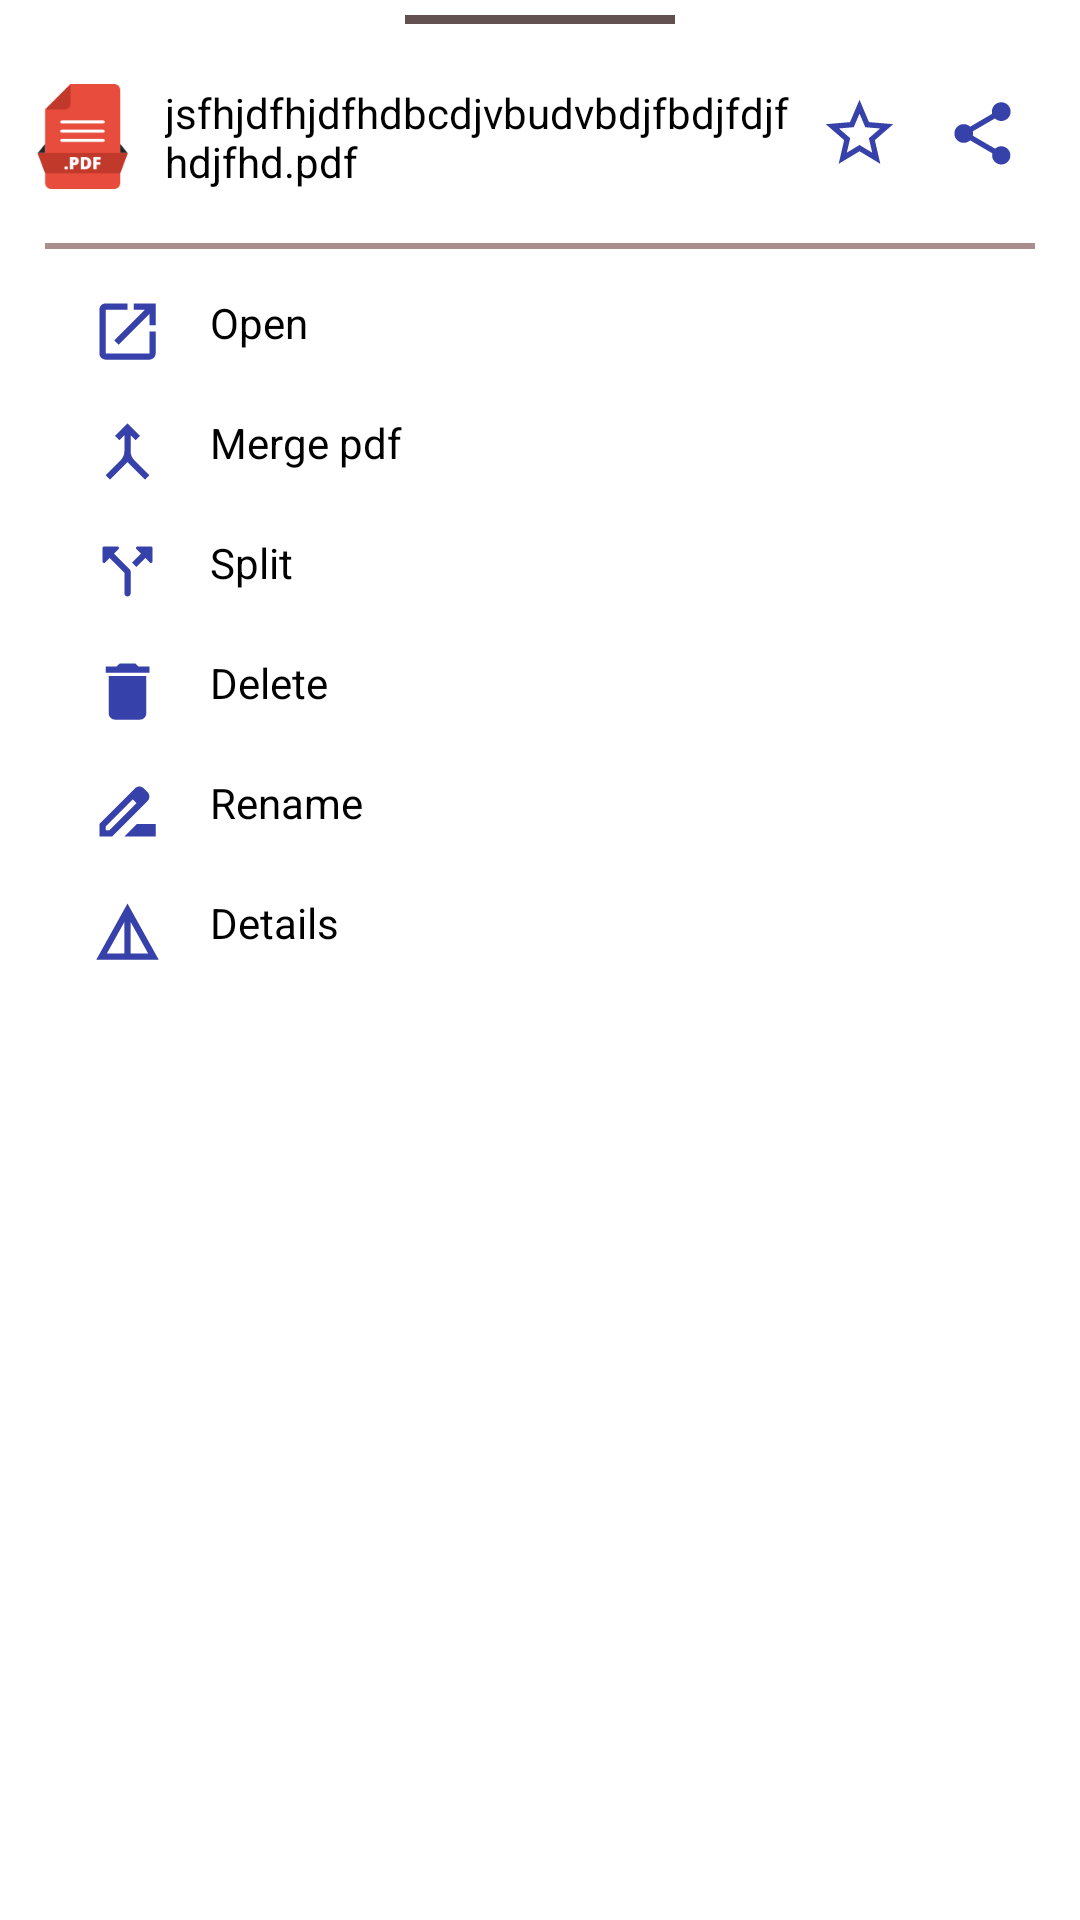

Icons on this 1080×1920 Android screen, each with its box as {"x1": x1, "y1": y1, "x2": x2, "y2": y2}:
extpdficon: {"x1": 37, "y1": 84, "x2": 128, "y2": 189}
share: {"x1": 954, "y1": 102, "x2": 1011, "y2": 165}
star border: {"x1": 826, "y1": 100, "x2": 893, "y2": 164}
